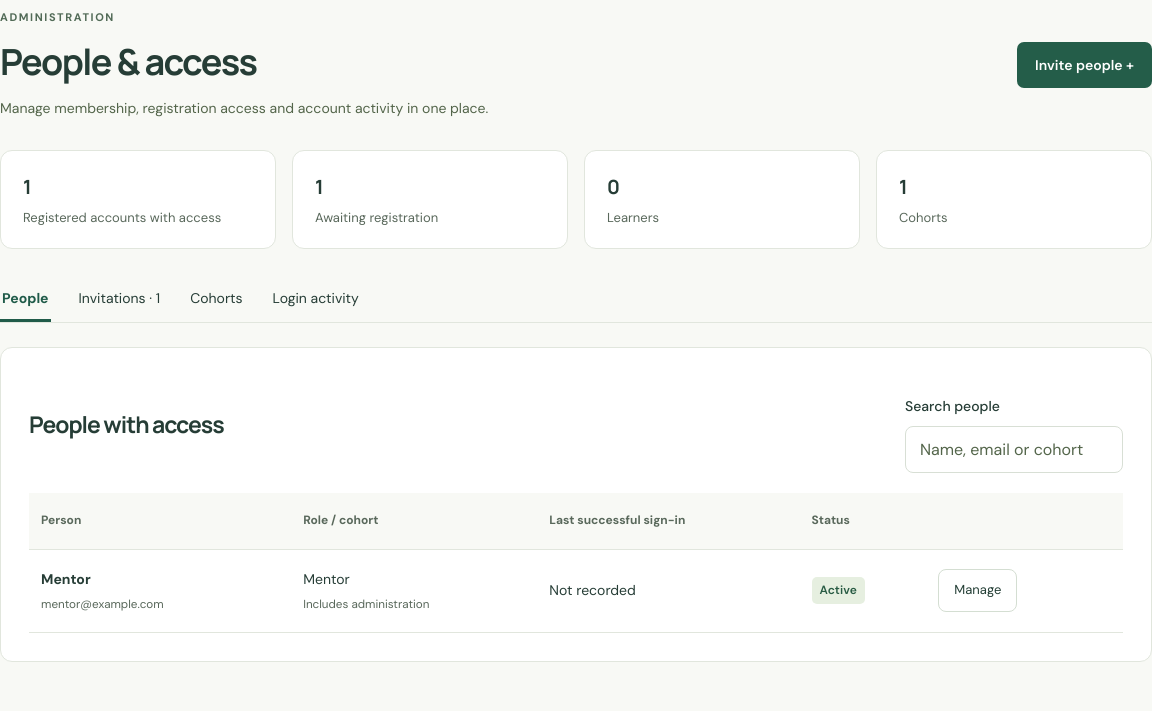
Test case: grants registration access with the selected cohort
Expected: the text "Mentor" is shown, x1=41 y1=570 x2=91 y2=588
Click the button "Invite people +" at (1084, 65), box x1=1017 y1=42 x2=1151 y2=88
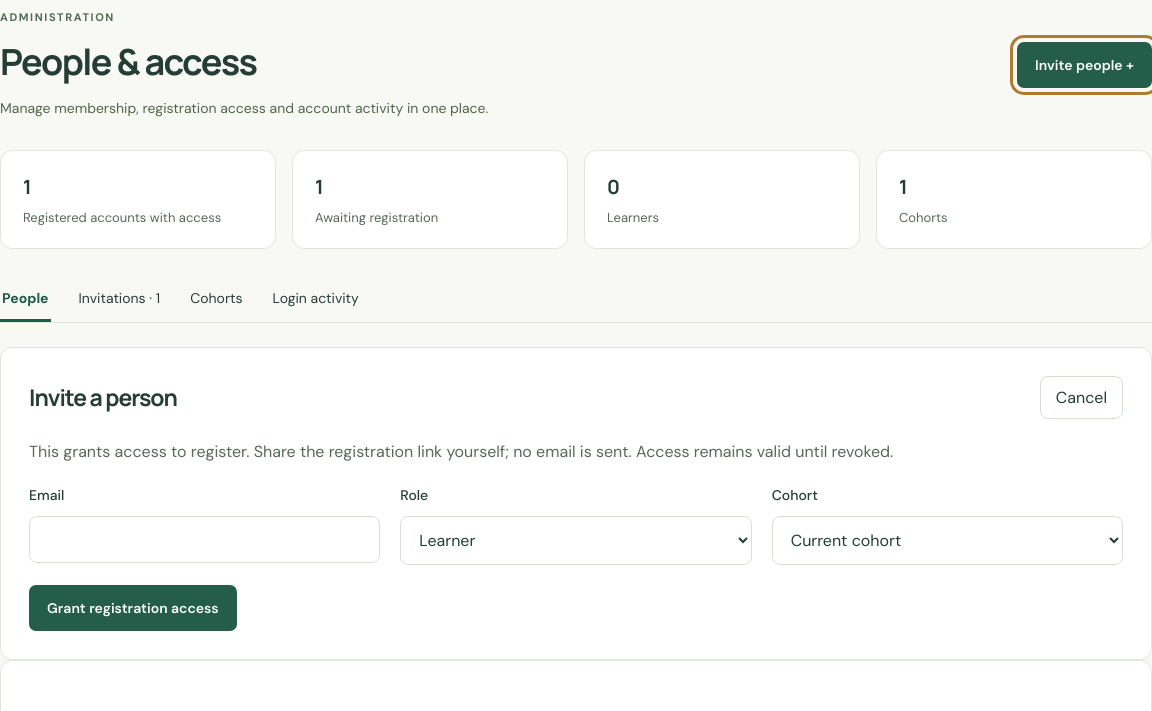
Type "another@example.com" into the field labelled "Email" at (205, 539), box x1=29 y1=516 x2=380 y2=563
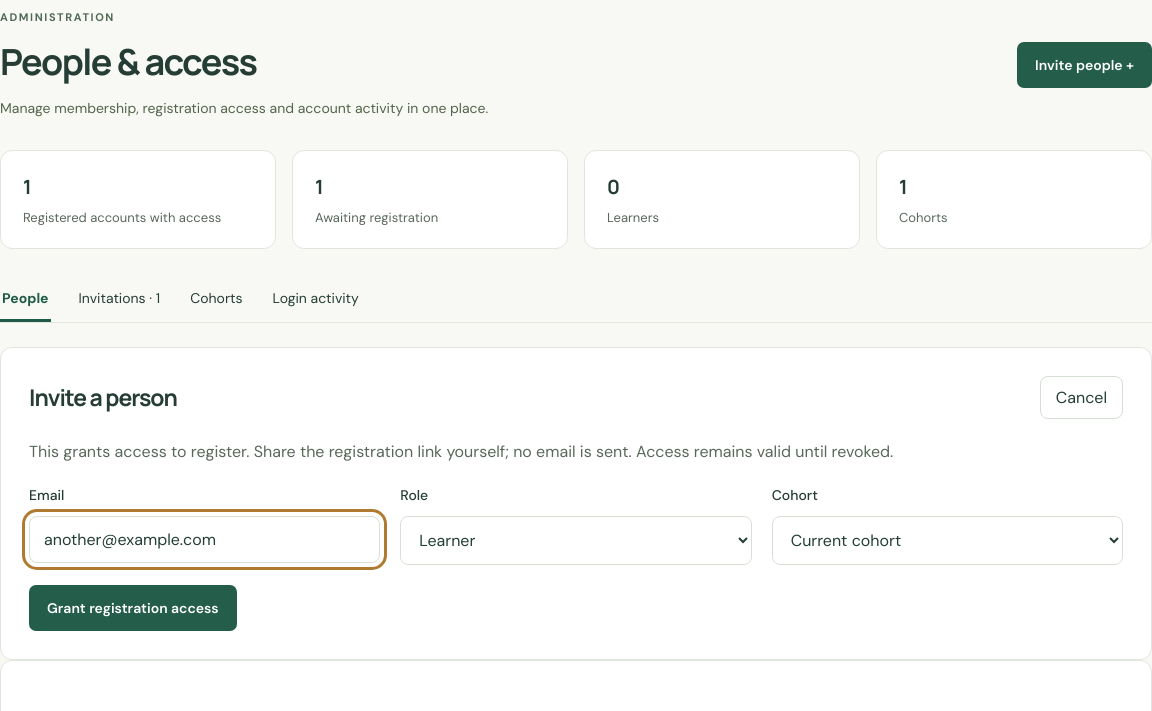
Click the button "Grant registration access" at (133, 608), box x1=29 y1=585 x2=237 y2=631
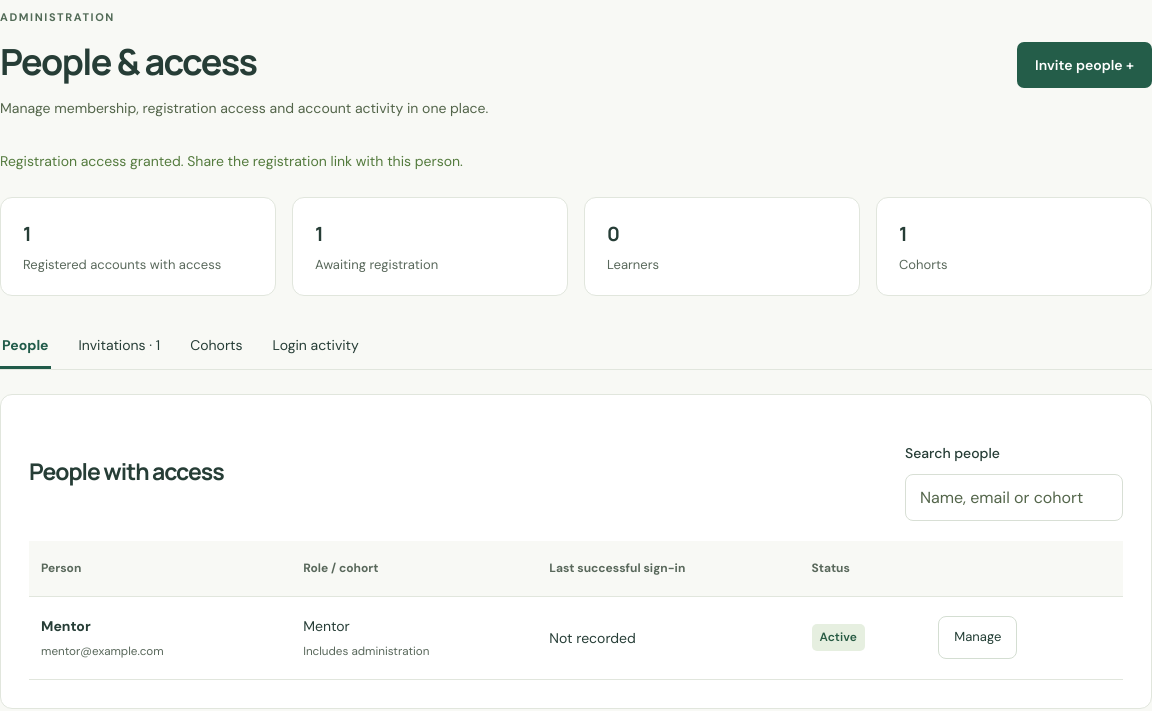
Expected: the message shows "Share the registration link", x1=0 y1=152 x2=463 y2=170
